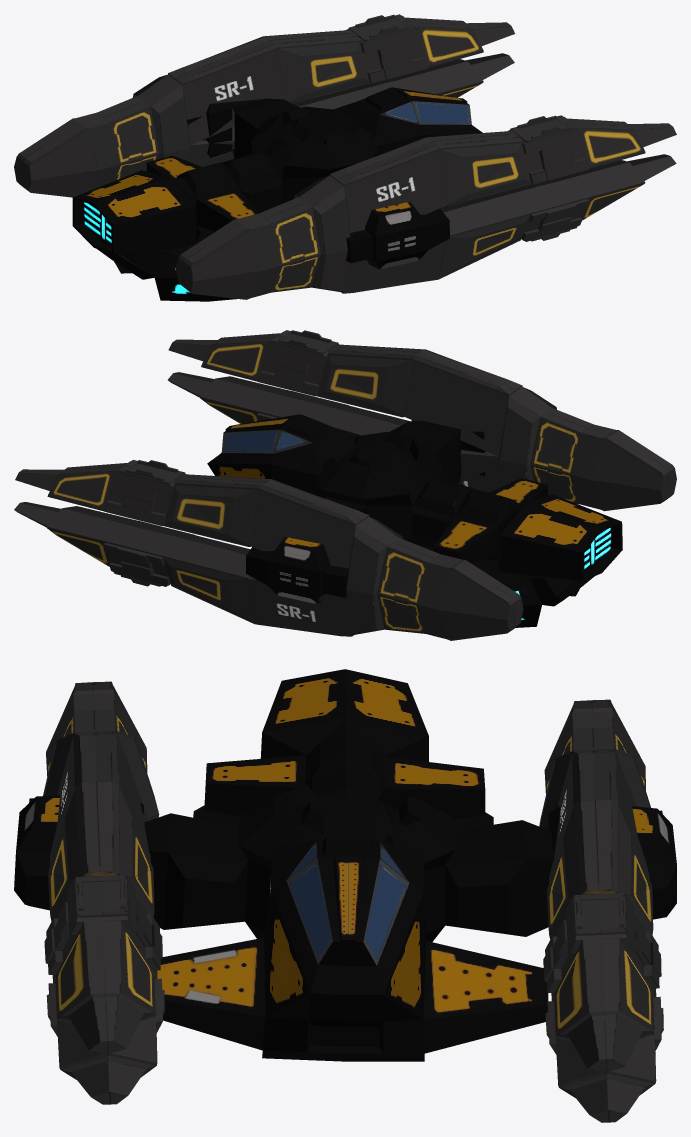
File: rlab-ranger.glb
3 views of the same model, one above another, from view 1: azimuth 30°, elevation 25°; view 2: azimuth 150°, elevation 25°; view 3: azimuth 270°, elevation 25° (orthographic). The views are drawn at different scales.
Parts seen in each view (by area): view 1: Object_4, Object_2, Object_3; view 2: Object_3, Object_2, Object_4; view 3: Object_2, Object_4, Object_3.
Boxes of the visible parts, left/top/right/bottom form: Object_4: left=175, top=115, right=676, bottom=299; Object_2: left=72, top=87, right=482, bottom=301; Object_3: left=14, top=14, right=514, bottom=197; Object_3: left=14, top=460, right=523, bottom=640; Object_2: left=207, top=414, right=622, bottom=627; Object_4: left=168, top=330, right=676, bottom=511; Object_2: left=14, top=669, right=676, bottom=1061; Object_4: left=43, top=681, right=164, bottom=1104; Object_3: left=539, top=699, right=663, bottom=1122.
Size of the model in its own units: 16.63 by 5.38 by 11.98.
2 materials, 2 textured.
